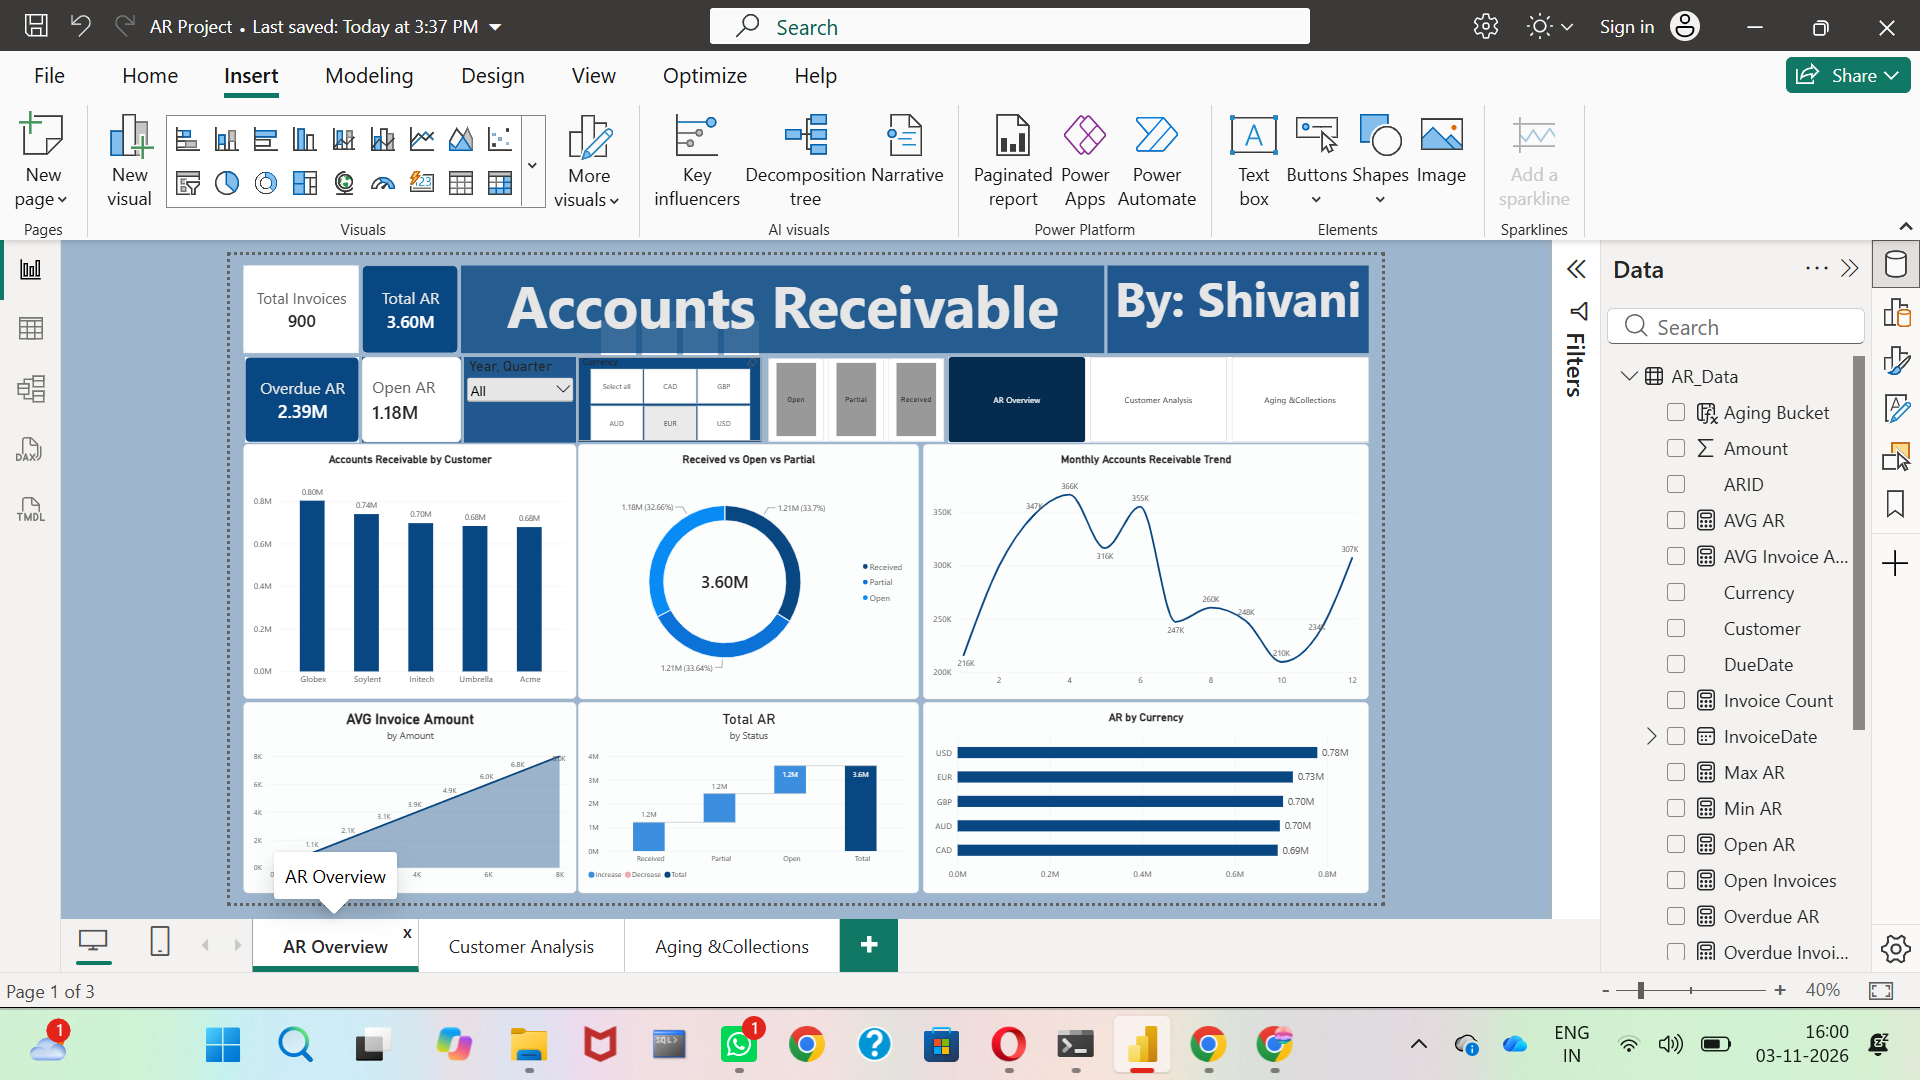

Layout of this report page (visuals, bound fields, positions):
{"tool":"powerbi","page":{"name":"AR Overview","canvas":[1920,1080],"ordinal":0},"visuals":[{"type":"cardVisual","fields":{"Data":["AR_Data.Total AR"]},"box":[219,17,160,146],"z":0},{"type":"cardVisual","fields":{"Data":["AR_Data.Total Invoices"]},"box":[22,17,192,146],"z":1000},{"type":"cardVisual","fields":{"Data":["AR_Data.Open AR"]},"box":[218.8,168.8,165,142.5],"z":2000},{"type":"cardVisual","fields":{"Data":["AR_Data.Overdue AR"]},"box":[23.8,168.8,190,142.5],"z":3000},{"type":"clusteredColumnChart","title":"Accounts Receivable by Customer","fields":{"Category":["AR_Data.Customer"],"Y":["AR_Data.Total AR"]},"box":[21.2,315.6,554.4,424.4],"z":4000},{"type":"donutChart","title":"Received vs Open vs Partial","fields":{"Category":["AR_Data.Status"],"Y":["AR_Data.Total AR"]},"box":[580,315.6,568.1,425.6],"z":5000},{"type":"lineChart","title":"Monthly Accounts Receivable Trend","fields":{"Category":["DateTable.Month Number","DateTable.Month"],"Y":["AR_Data.Total AR"]},"box":[1154.4,315.6,742.5,425.6],"z":6000},{"type":"barChart","title":"AR by Currency","fields":{"Category":["AR_Data.Currency"],"Y":["AR_Data.Total AR"]},"box":[1154.4,745.6,742.5,318.8],"z":7000},{"type":"slicer","fields":{"Values":["AR_Data.Currency"]},"box":[580,168.8,305.6,141.2],"z":8000},{"type":"slicer","fields":{"Values":["AR_Data.InvoiceDate.Variation.Date Hierarchy.Year","AR_Data.InvoiceDate.Variation.Date Hierarchy.Quarter"]},"box":[388.8,168.8,186.9,142.5],"z":9000},{"type":"textbox","box":[384,17,1072,146],"z":10000},{"type":"textbox","box":[1463,17,435,146],"z":11000},{"type":"areaChart","fields":{"Category":["AR_Data.Amount"],"Y":["AR_Data.AVG Invoice Amount"]},"box":[21.2,745.6,554.4,318.8],"z":12000},{"type":"waterfallChart","fields":{"Category":["AR_Data.Status"],"Y":["AR_Data.Total AR"]},"box":[580,745.6,568.1,318.8],"z":13000},{"type":"pageNavigator","box":[1197.5,168.8,700,142.5],"z":14000},{"type":"advancedSlicerVisual","fields":{"Values":["AR_Data.Status"]},"box":[896.2,171.2,292.5,138.8],"z":15000}]}

Visuals, with their boxes on the page's 1920x1080 design canvas (x1, y1, x2, y2). These are canvas units, not pixel positions in the 1920x1080 screenshot, which may show the page scaled, cropped or inside an application window:
cardVisual - AR_Data.Total AR: [219, 17, 379, 163]
cardVisual - AR_Data.Total Invoices: [22, 17, 214, 163]
cardVisual - AR_Data.Open AR: [219, 169, 384, 311]
cardVisual - AR_Data.Overdue AR: [24, 169, 214, 311]
"Accounts Receivable by Customer" clusteredColumnChart: [21, 316, 576, 740]
"Received vs Open vs Partial" donutChart: [580, 316, 1148, 741]
"Monthly Accounts Receivable Trend" lineChart: [1154, 316, 1897, 741]
"AR by Currency" barChart: [1154, 746, 1897, 1064]
slicer - AR_Data.Currency: [580, 169, 886, 310]
slicer - AR_Data.InvoiceDate.Variation.Date Hierarchy.Year x AR_Data.InvoiceDate.Variation.Date Hierarchy.Quarter: [389, 169, 576, 311]
textbox: [384, 17, 1456, 163]
textbox: [1463, 17, 1898, 163]
areaChart - AR_Data.Amount x AR_Data.AVG Invoice Amount: [21, 746, 576, 1064]
waterfallChart - AR_Data.Status x AR_Data.Total AR: [580, 746, 1148, 1064]
pageNavigator: [1198, 169, 1898, 311]
advancedSlicerVisual - AR_Data.Status: [896, 171, 1189, 310]
